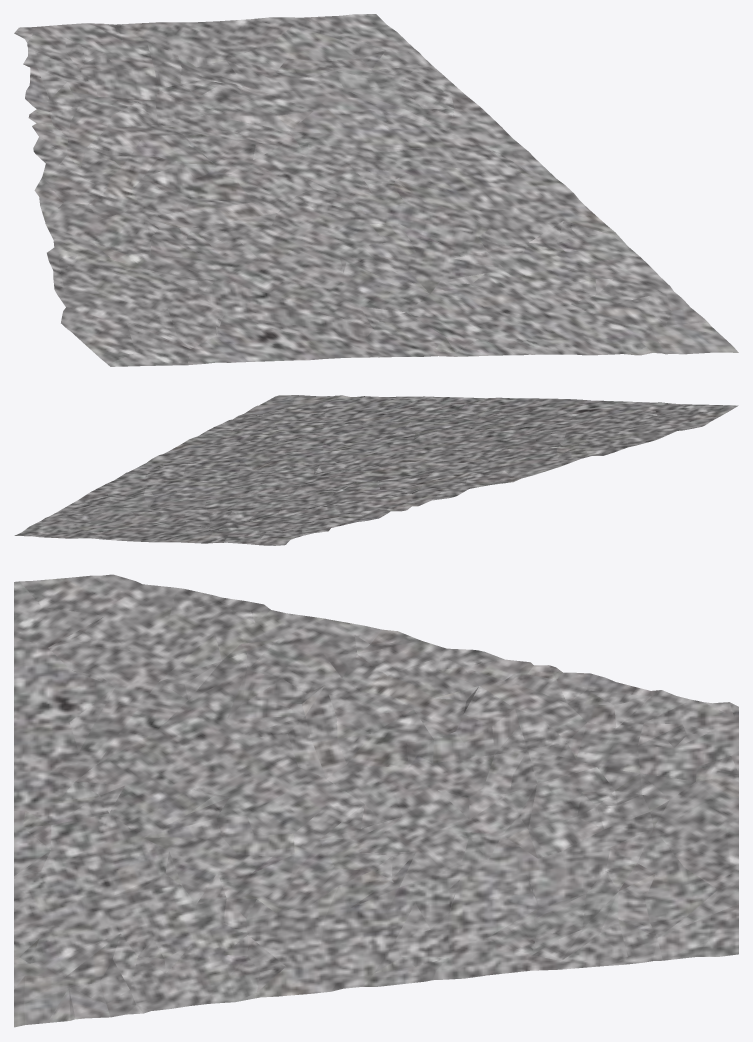
3 views of the same model, one above another, from view 1: azimuth 30°, elevation 25°; view 2: azimuth 150°, elevation 25°; view 3: azimuth 270°, elevation 25° (orthographic). The views are drawn at different scales.
Size of the model in its own units: 0.8374 by 0.1869 by 0.8374.
2 materials, 2 textured.
